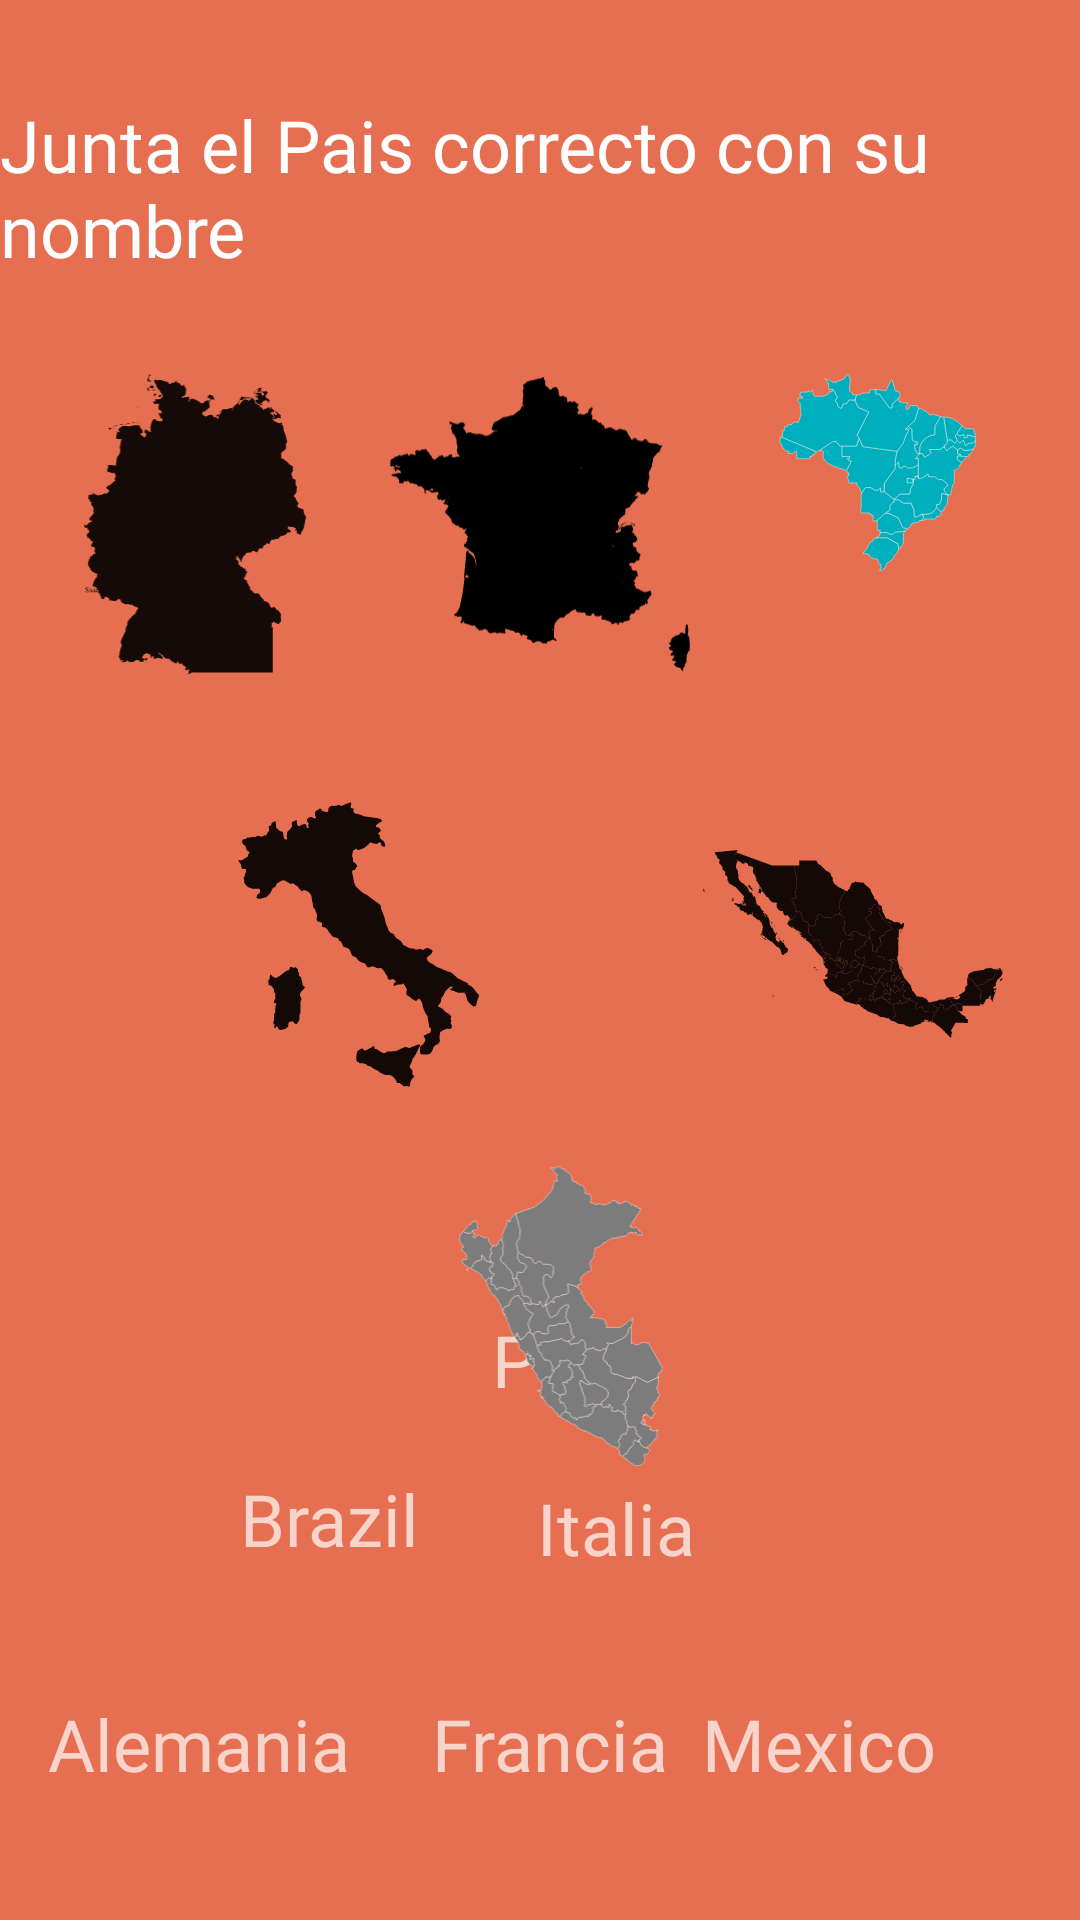

Icons on this 1080x1920 Android screen, each with the point to tap as point (x, y):
brazil: point (877, 472)
francia: point (540, 524)
italy: point (358, 944)
mexicp: point (853, 944)
